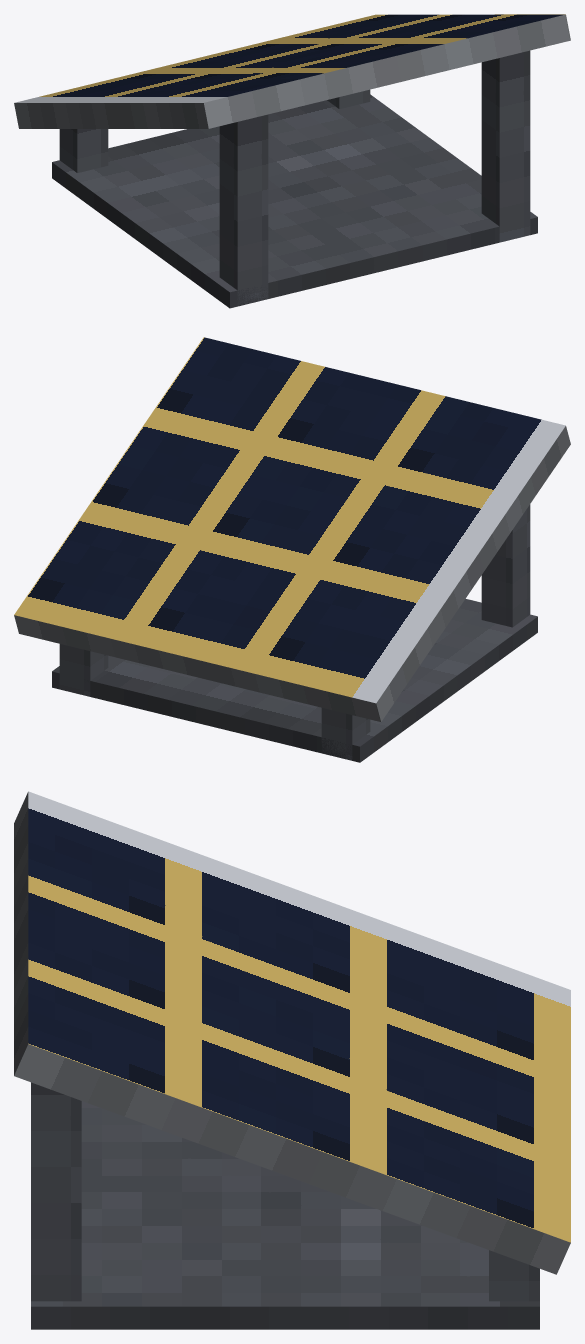
Rendered from solar_panel_mono.obj.
The picture shows the model from 3 angles, top to bottom: view 1: azimuth 30°, elevation 25°; view 2: azimuth 150°, elevation 25°; view 3: azimuth 270°, elevation 25°; orthographic projection. The views are drawn at different scales.
Size of the model in its own units: 0.94 by 0.5279 by 0.8755.
